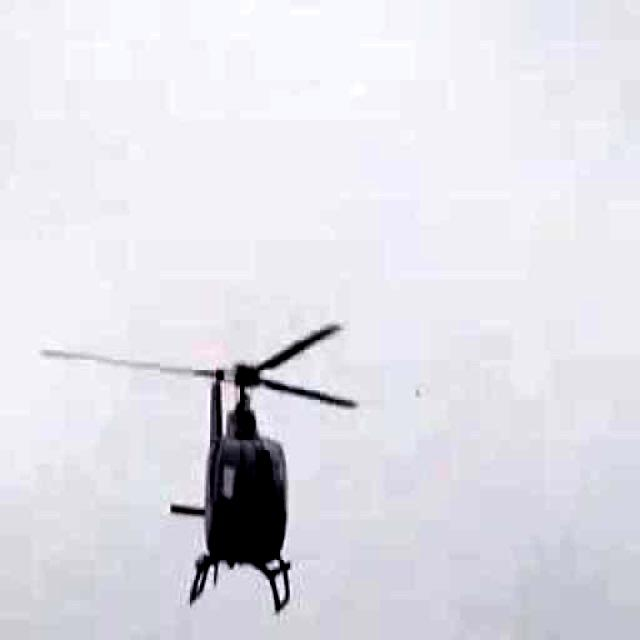drone: (42, 194, 449, 640)
